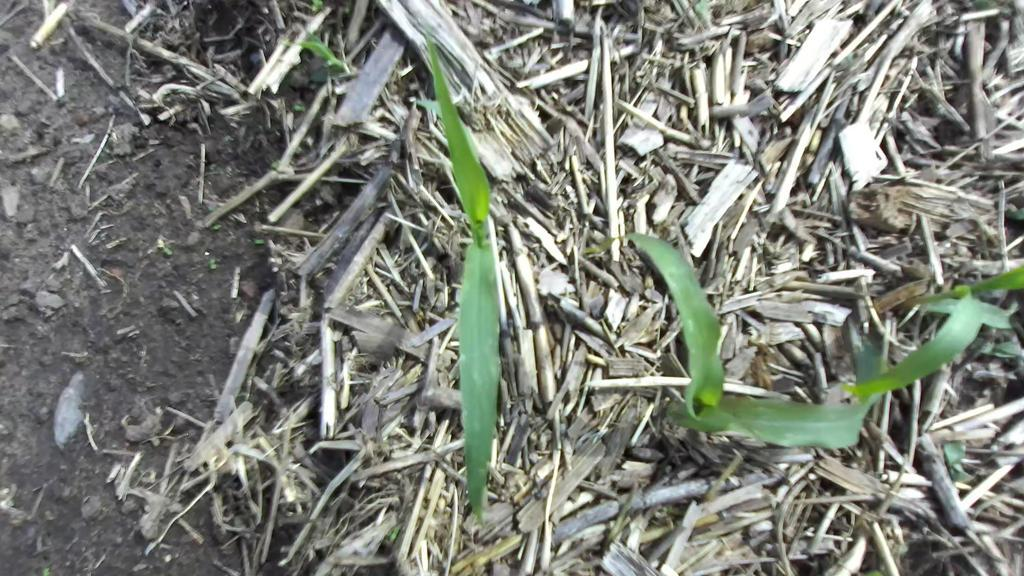BroWeed: (601, 482, 641, 550), (295, 28, 348, 79), (970, 334, 1017, 362), (308, 54, 337, 88), (942, 441, 967, 474), (269, 157, 295, 179), (693, 0, 710, 24), (948, 469, 974, 484), (387, 524, 401, 543), (161, 245, 174, 257), (207, 257, 218, 270), (312, 0, 323, 13), (211, 222, 223, 232), (293, 104, 306, 113), (42, 567, 50, 576), (663, 506, 672, 513), (254, 239, 265, 244)
Maize: (531, 211, 901, 501), (427, 33, 518, 517)
